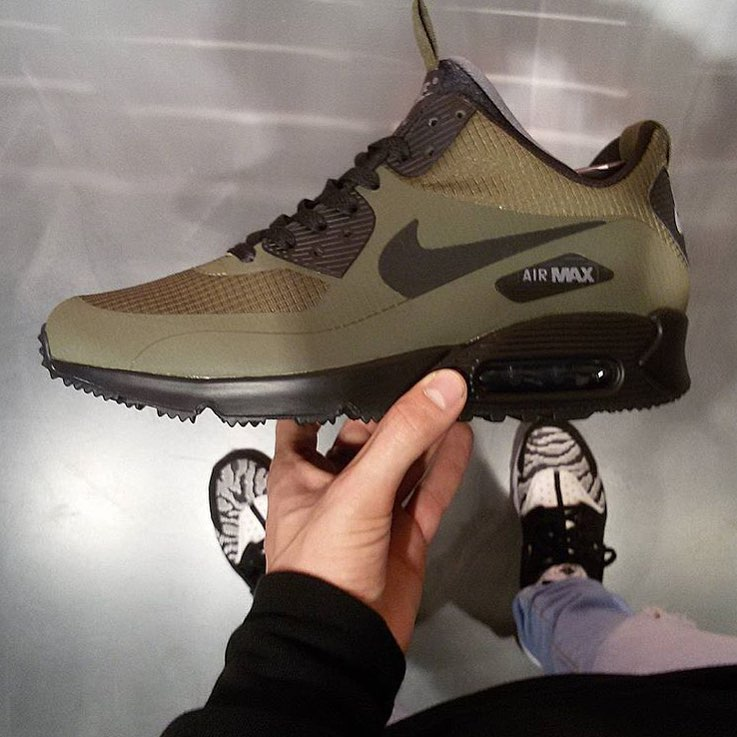sneaker: (502, 408, 623, 649), (181, 437, 317, 613)
